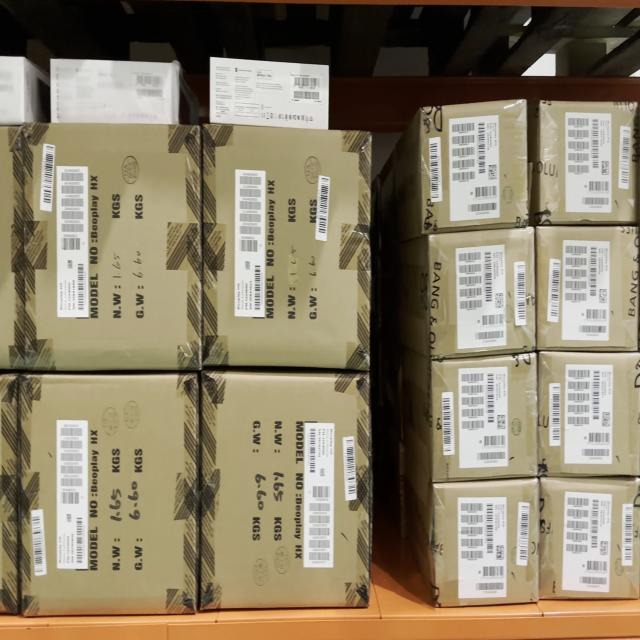box: (26, 126, 200, 368), (21, 378, 195, 612), (204, 125, 369, 369), (202, 376, 369, 610), (435, 482, 538, 605), (434, 361, 536, 481), (540, 352, 640, 474), (538, 230, 638, 348), (541, 102, 638, 223), (541, 480, 640, 598), (433, 237, 532, 354), (423, 115, 527, 223), (52, 63, 178, 122), (211, 65, 328, 122)
